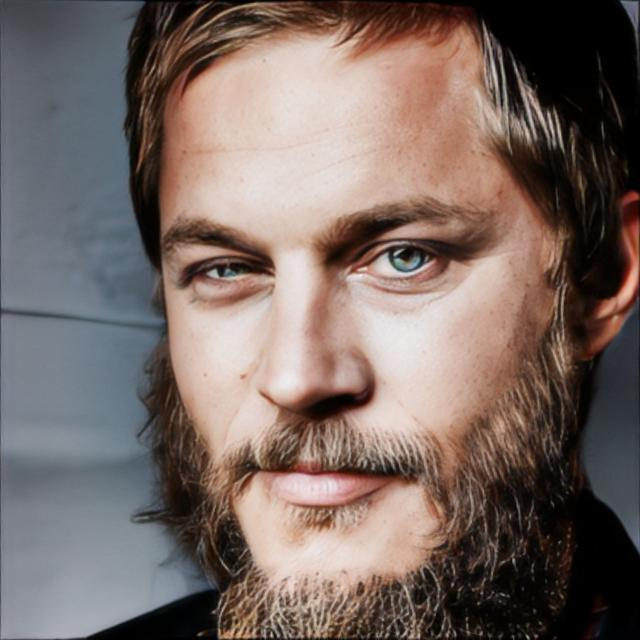content: (152, 19, 580, 640)
